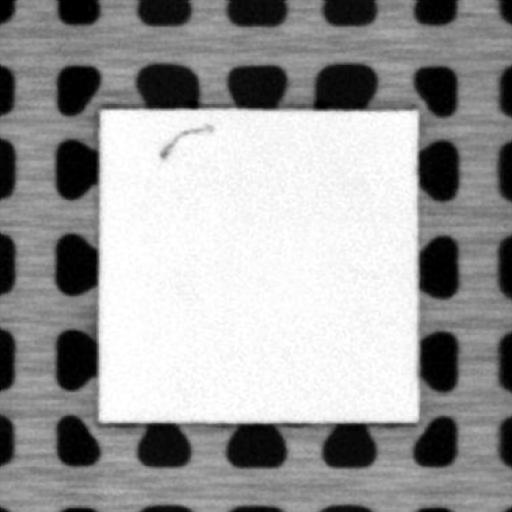DIE_INK: (157, 122, 215, 158)
